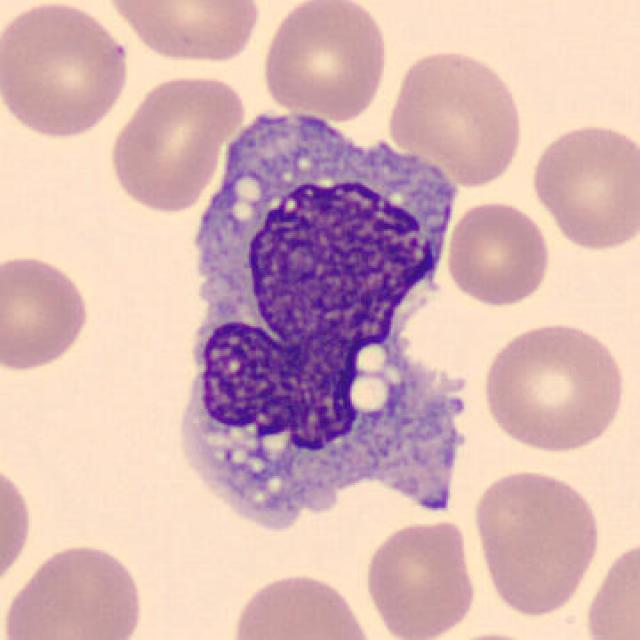Monocyte: (160, 106, 476, 562)
RBC: (478, 317, 630, 455), (470, 464, 604, 619), (384, 44, 526, 189), (105, 71, 245, 215), (0, 0, 135, 141), (258, 0, 391, 122), (526, 118, 638, 254), (0, 539, 149, 640), (361, 517, 480, 638), (442, 198, 554, 308), (0, 250, 94, 376), (225, 567, 378, 640), (99, 0, 265, 67), (583, 534, 638, 640), (0, 455, 36, 599)
